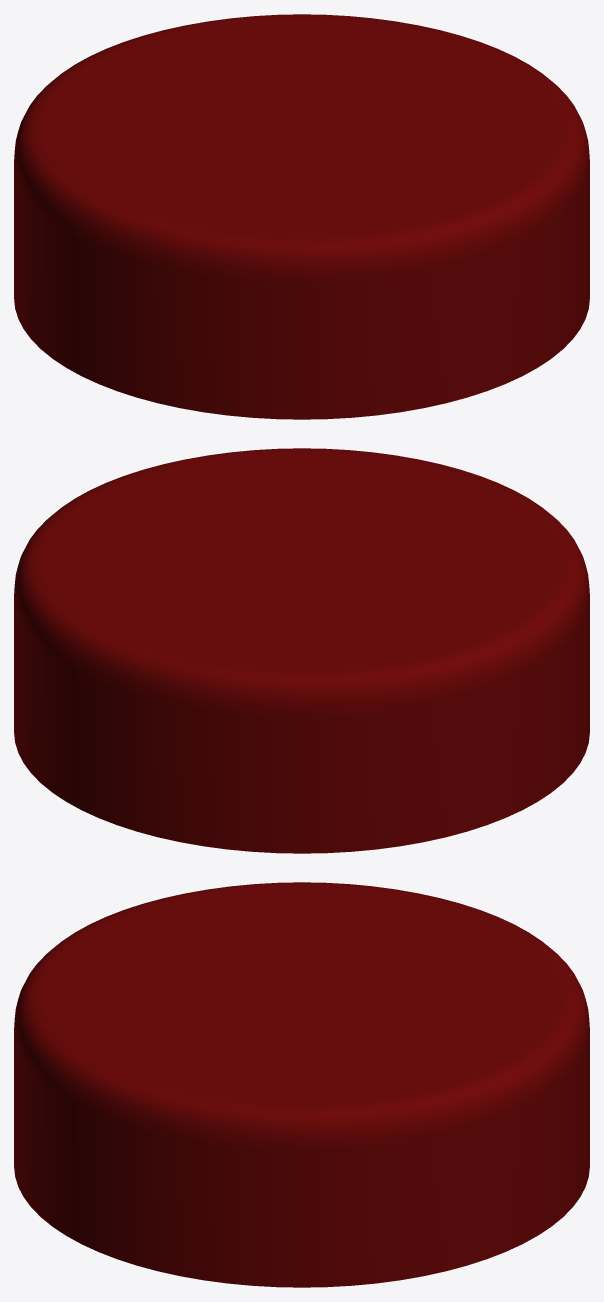
File: Button_Core.FBX
The picture shows the model from 3 angles, top to bottom: view 1: azimuth 30°, elevation 25°; view 2: azimuth 150°, elevation 25°; view 3: azimuth 270°, elevation 25°; orthographic projection.
Visible parts, largest first — view 1: Button_Core; view 2: Button_Core; view 3: Button_Core.
Boxes of the visible parts, x1,y1,x2,y2 form: Button_Core: (14,14,589,419); Button_Core: (14,448,589,853); Button_Core: (14,882,589,1287).
Size of what is drawn, in the model's own units: 4.6 by 4.6 by 1.5.
